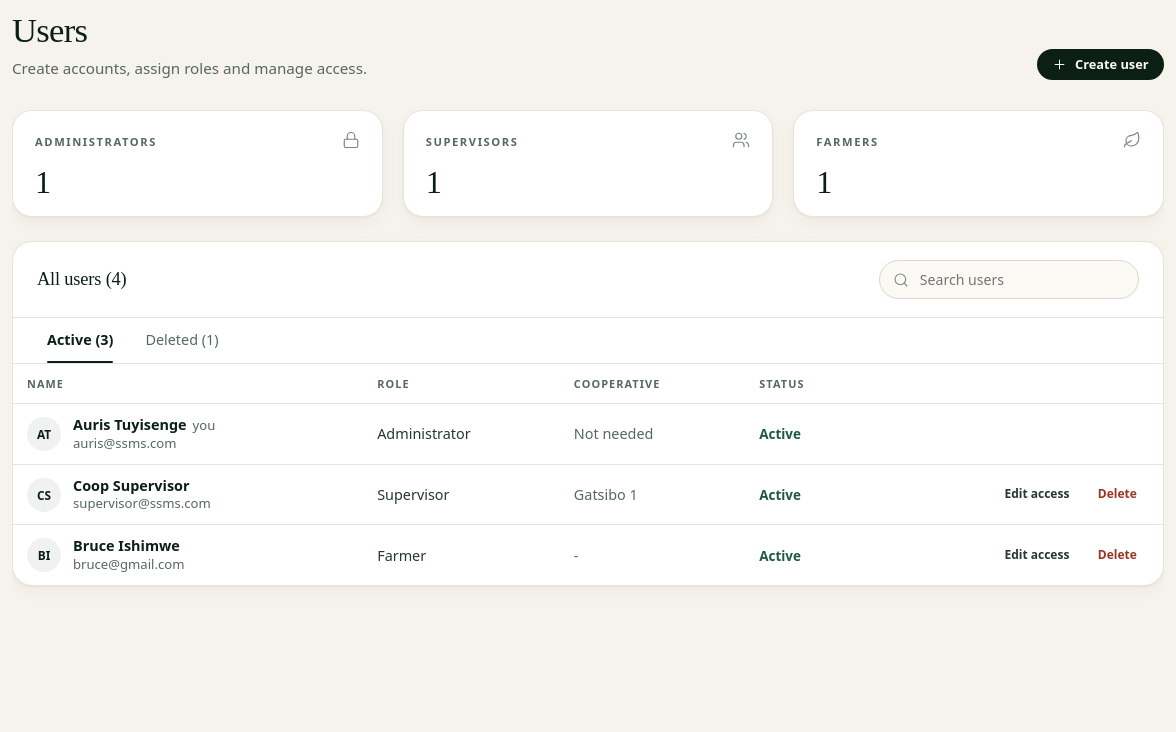
Users page › filters by name, email or role
Check: the text "Bruce Ishimwe" is shown, box [73,538,184,556]
Type "supervisor@" into the search field labelled "Search users". click: coordinates (1009, 280)
box: [879,260,1139,299]
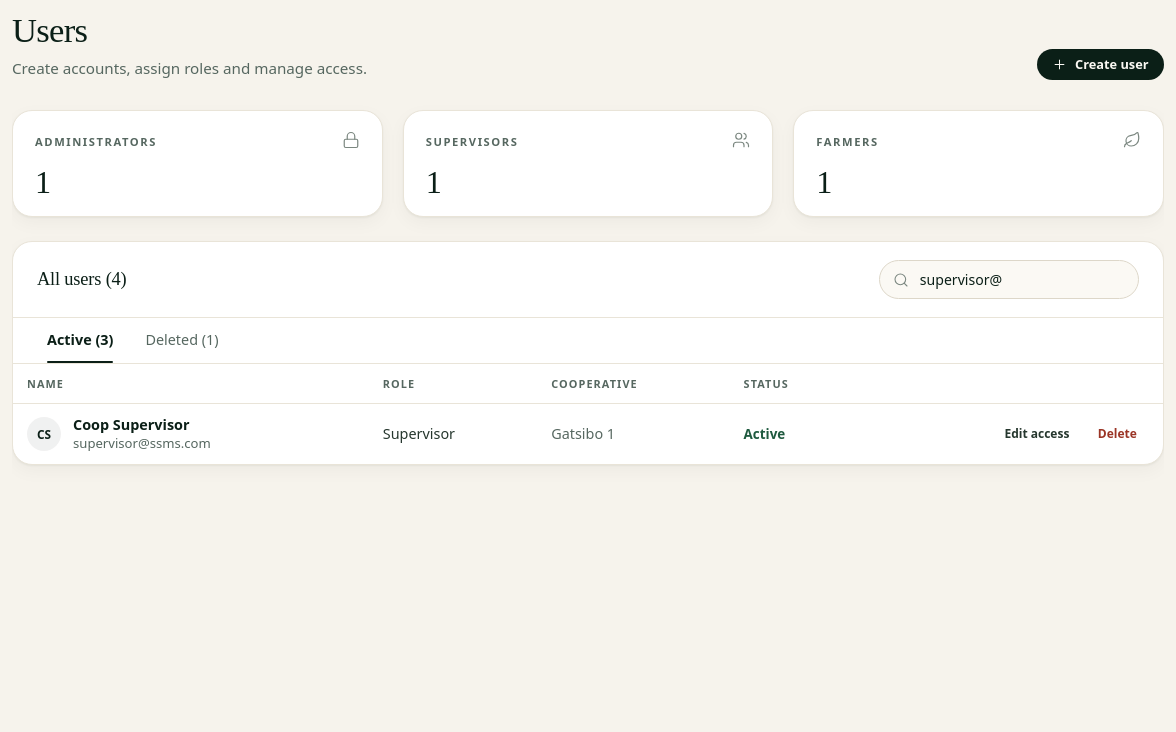
Check: the text "Coop Supervisor" is shown, box [73,415,190,434]
Check: the text "Bruce Ishimwe" is gone
Replace the text in the search field named "Search users" with "zzz". click: coordinates (1009, 280)
box: [879,260,1139,299]
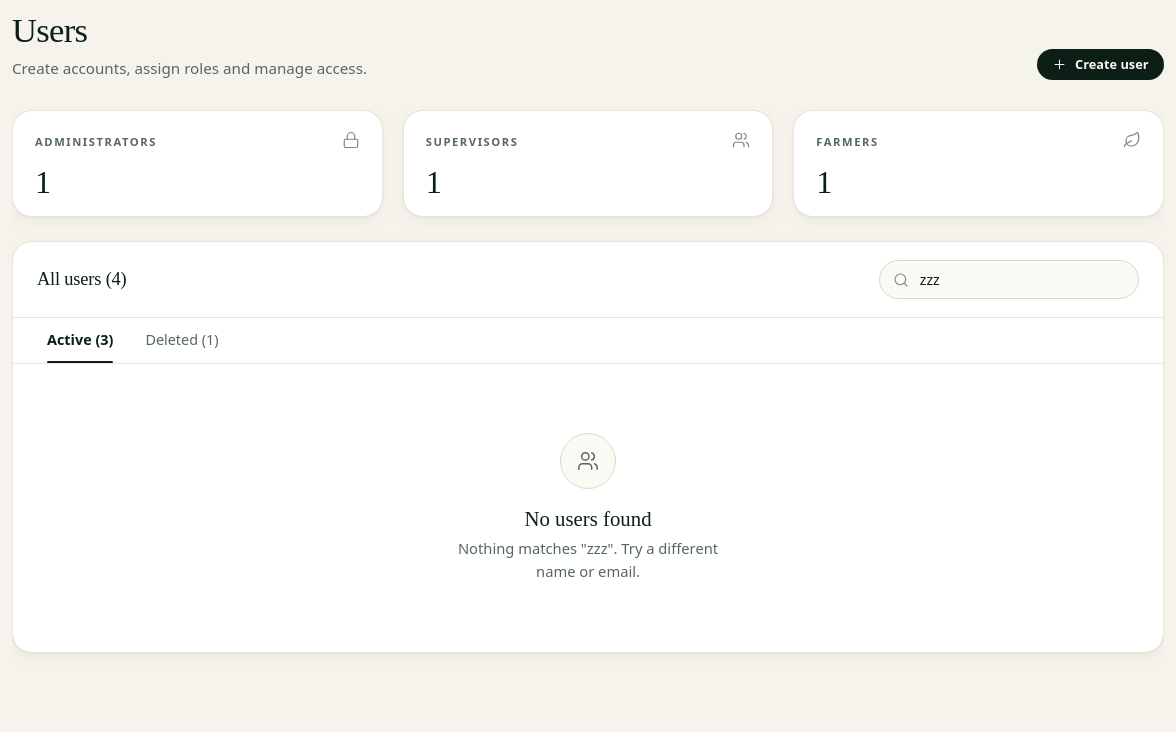
Check: the heading "No users found" is shown, box [524,507,652,531]
Check: the text "Nothing matches \"zzz\". Try a different name or email." is shown, box [436,537,740,583]
